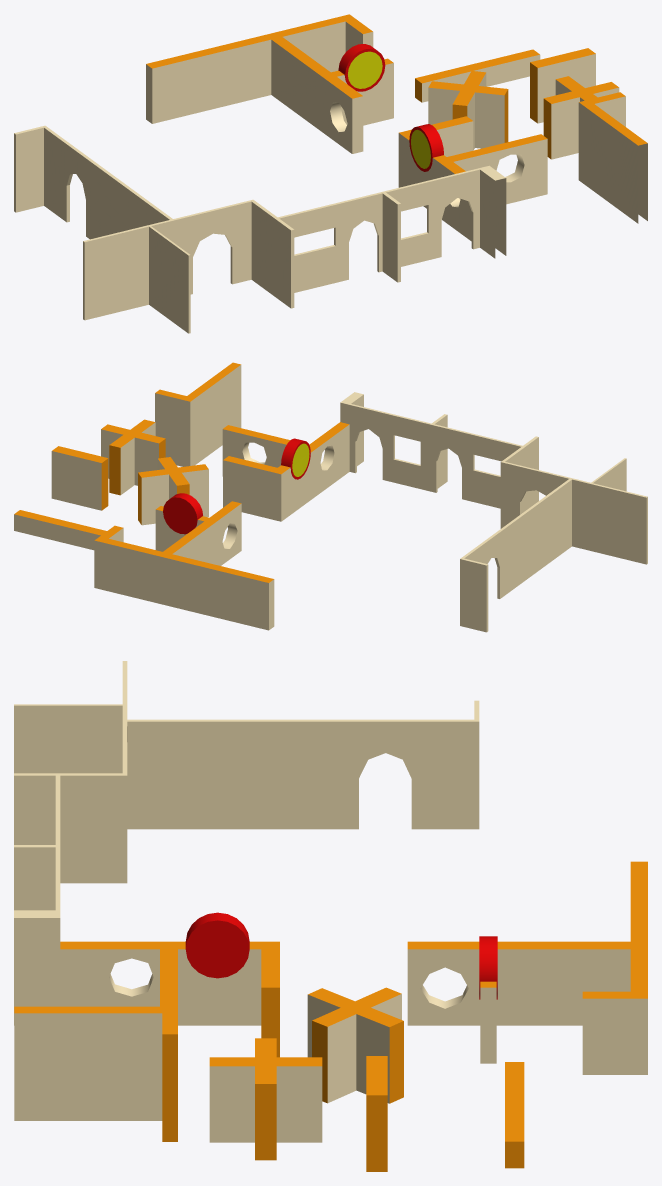
The model's file is F2_Playground_Wall.fbx.
3 renders of one model, top to bottom at view 1: azimuth 30°, elevation 25°; view 2: azimuth 150°, elevation 25°; view 3: azimuth 270°, elevation 25°, orthographic. The views are drawn at different scales.
Parts seen in each view (by area): view 1: F2_Playground_Wall; view 2: F2_Playground_Wall; view 3: F2_Playground_Wall.
Boxes of the visible parts, x1,y1,x2,y2 form: F2_Playground_Wall: (14,14,647,333); F2_Playground_Wall: (14,362,647,632); F2_Playground_Wall: (14,661,647,1171).
Size of the model in its own units: 2258 by 281 by 1501.
